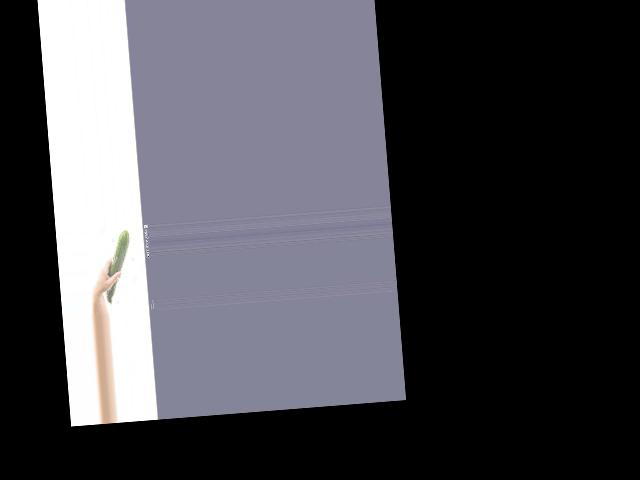cucumber: (101, 230, 135, 305)
